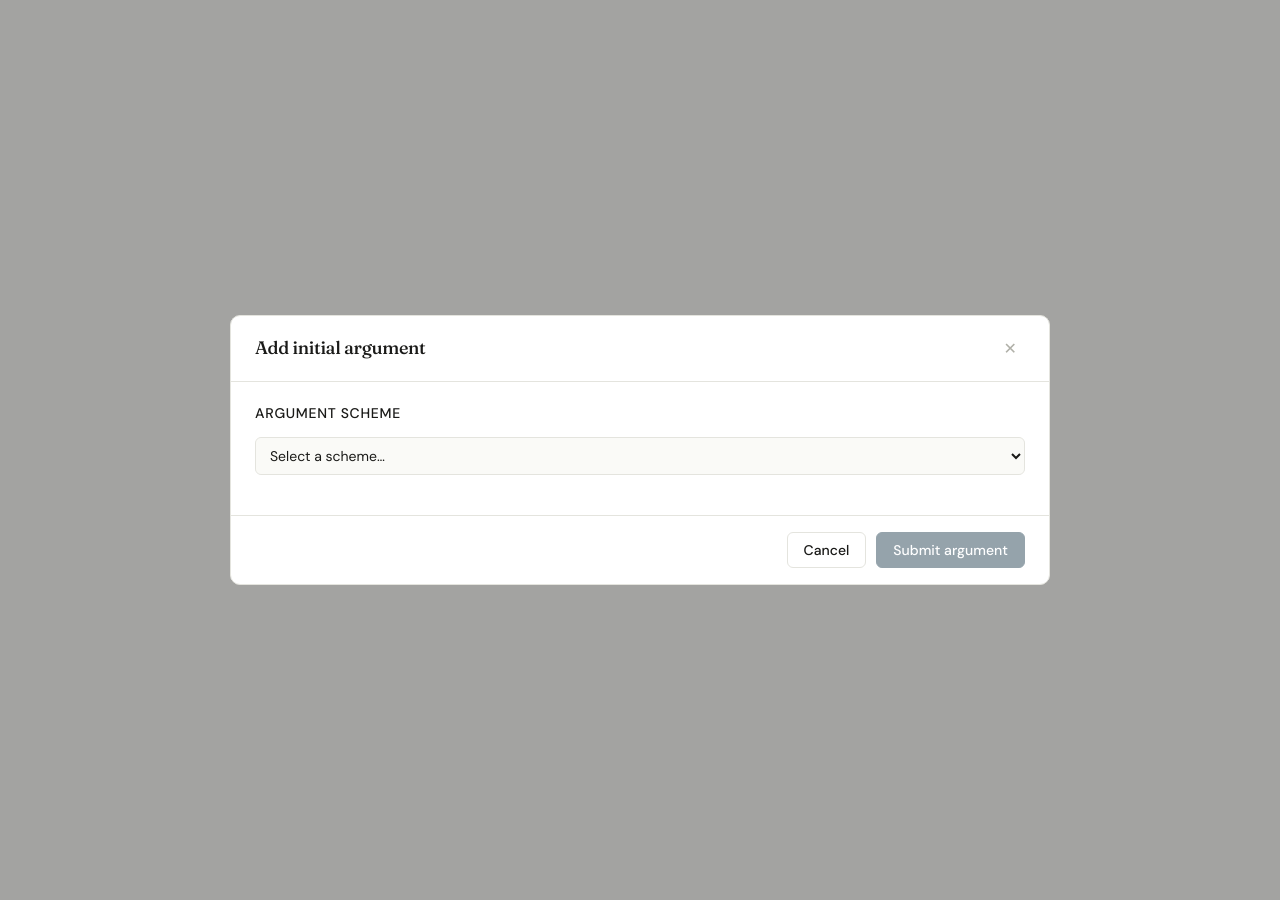
AddArgumentForm - initial argument › shows scheme fields when a scheme is selected
Select "Expert Opinion" in the dropdown at (640, 456), box [255,437,1025,475]
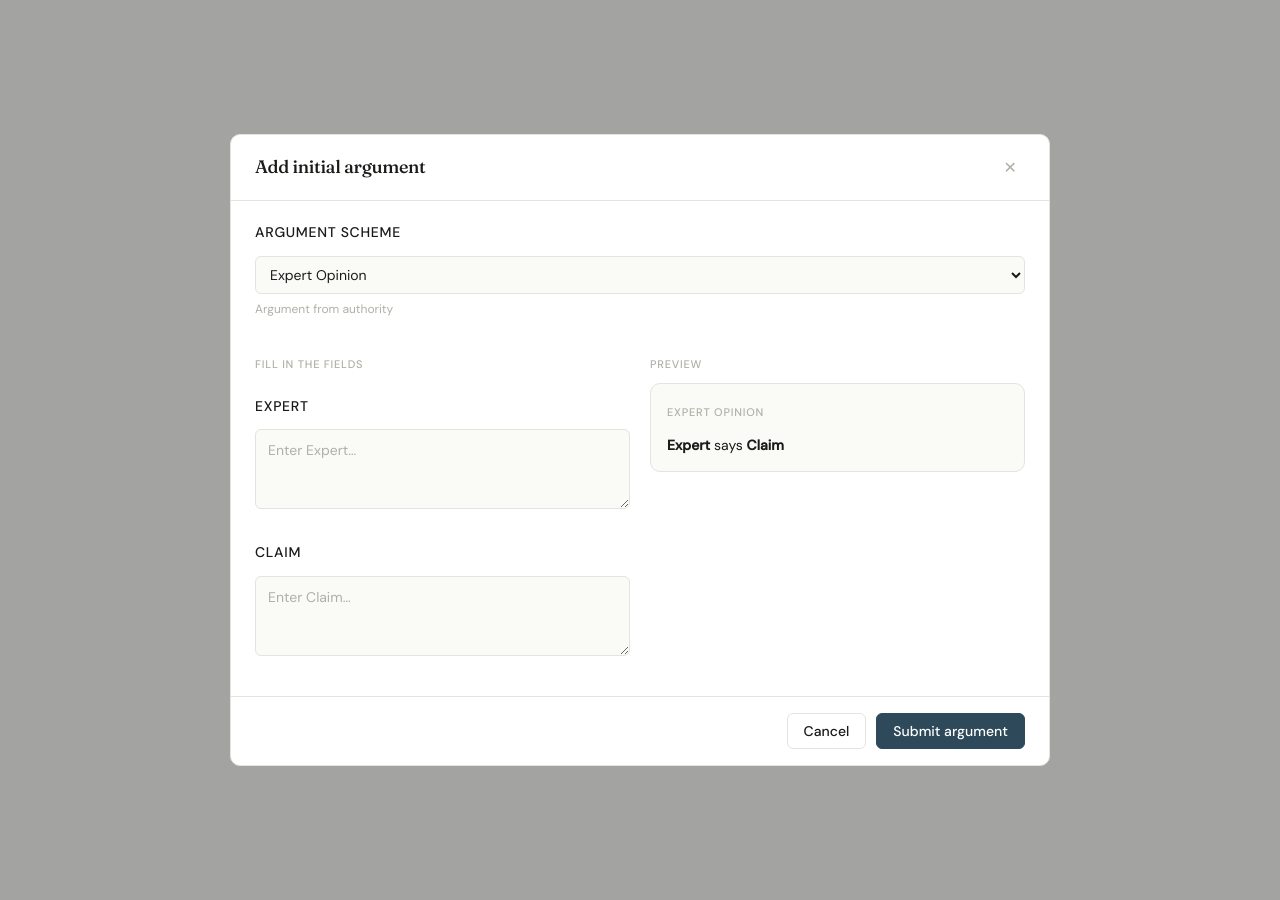
Expected: the text box labelled "Expert" is shown, [255,430,630,510]
Expected: the text box labelled "Claim" is shown, [255,576,630,656]
